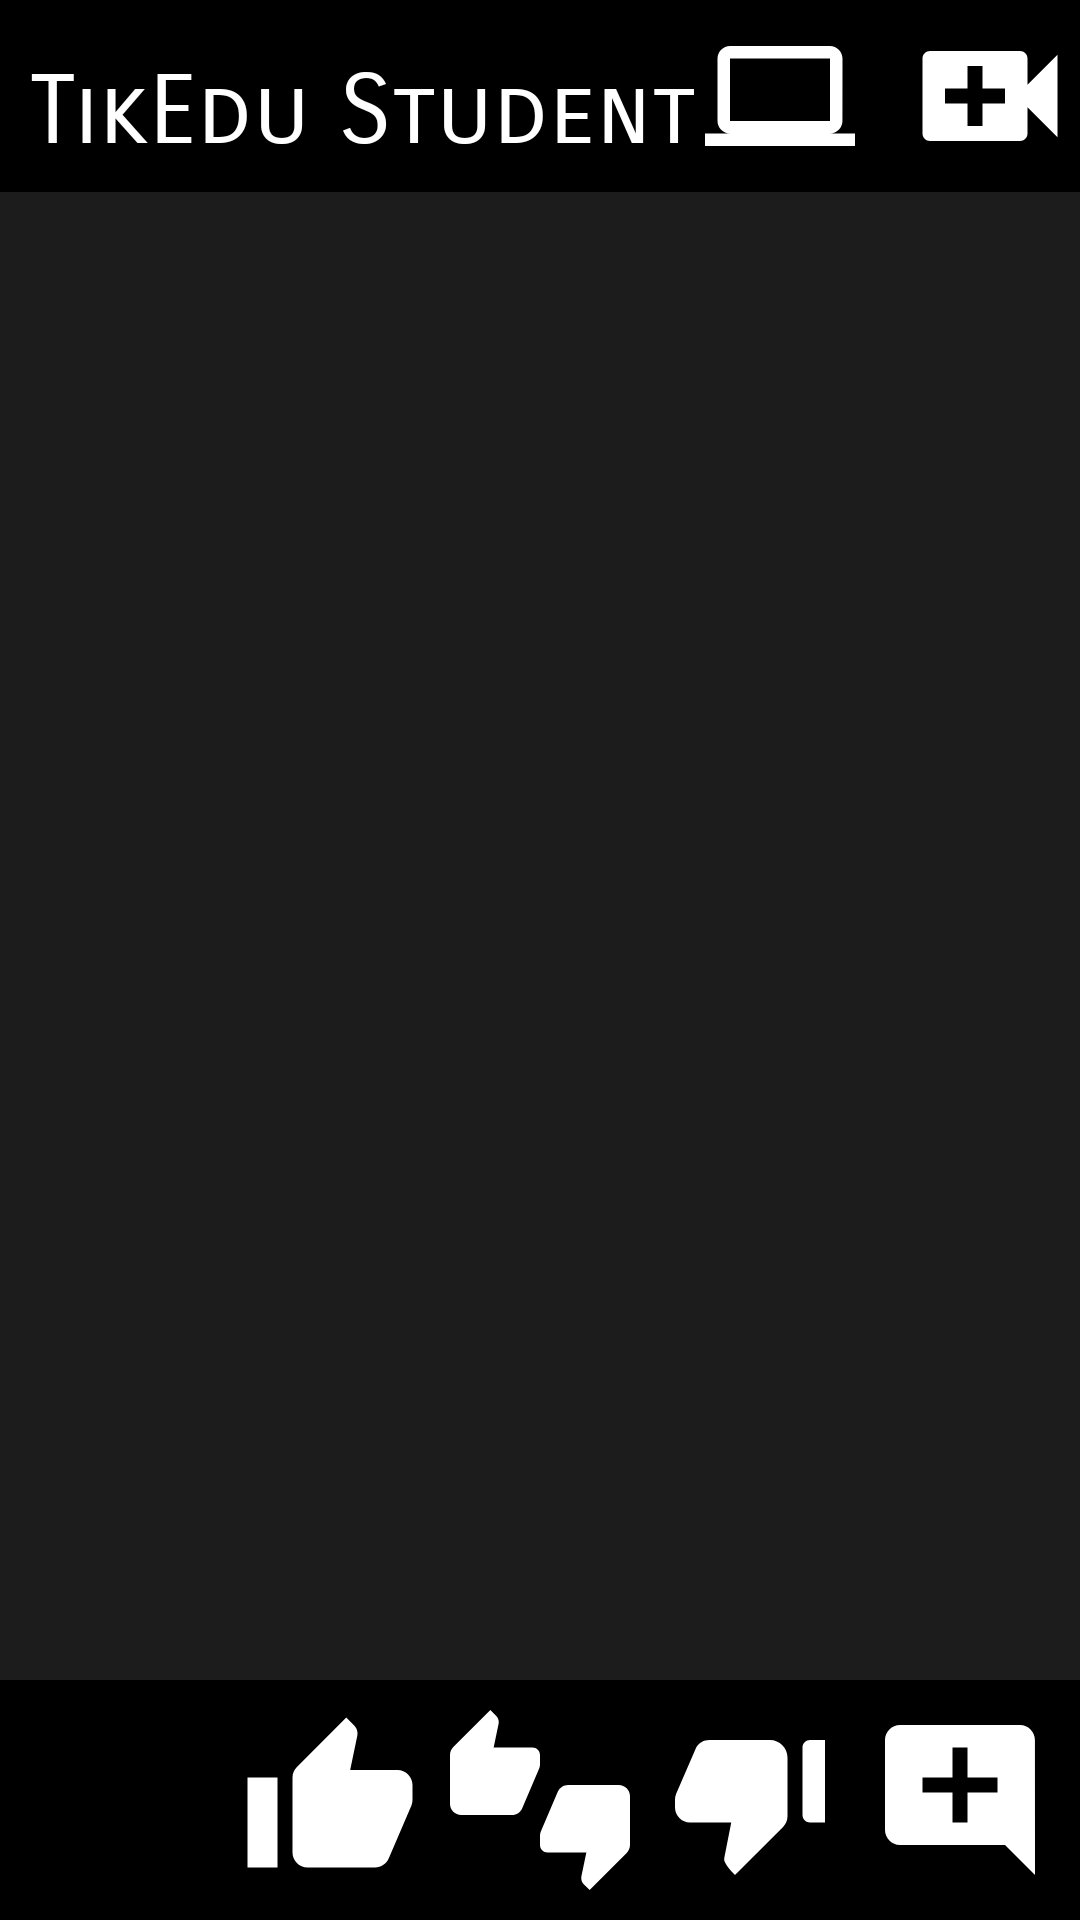

Point at icon controls on the screen. Image size 1080x1920, points as point (x, y).
Add video: point (990, 96)
Comment: point (960, 1800)
Dislike: point (750, 1807)
Like: point (330, 1792)
Okay like: point (540, 1800)
View classes: point (780, 96)
